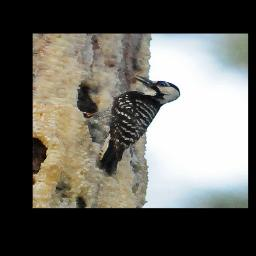Woodpecker: (84, 75, 183, 176)
